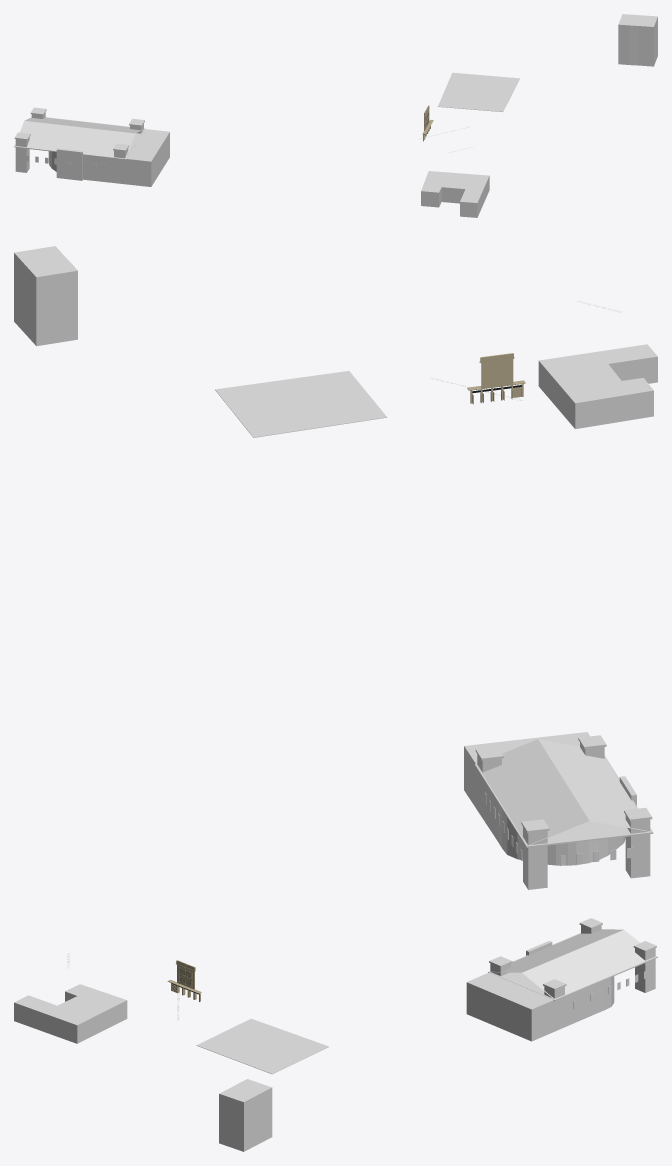
The model's file is mvp_official_heroes.glb.
3 views of the same model, one above another, from view 1: azimuth 30°, elevation 25°; view 2: azimuth 150°, elevation 25°; view 3: azimuth 270°, elevation 25° (orthographic). The views are drawn at different scales.
Parts seen in each view (by area): view 1: MERCADO MODELO | footprint OSM, MERCADO MODELO | telhado, Prefeitura | contorno OSM, altura pendente.001, Palácio do Rio Branco.002, Prefeitura Bairro.001, MERCADO MODELO | pórtico principal, MERCADO MODELO | telhado.001, MERCADO MODELO | torreão, MERCADO MODELO | cornija; view 2: Palácio do Rio Branco.002, Prefeitura | contorno OSM, altura pendente.001, MERCADO MODELO | telhado.001, Prefeitura Bairro.001, MERCADO MODELO | footprint OSM, MERCADO MODELO | telhado, MERCADO MODELO | cornija, MERCADO MODELO | torreão.001, MERCADO MODELO | torreão, FACHADA SUPERIOR | corpo elevado; view 3: MERCADO MODELO | footprint OSM, Palácio do Rio Branco.002, Prefeitura | contorno OSM, altura pendente.001, MERCADO MODELO | telhado.001, Prefeitura Bairro.001, MERCADO MODELO | telhado, MERCADO MODELO | cornija, MERCADO MODELO | torreão.001.
Boxes of the visible parts, box(x1,y1,x2,y2) form: MERCADO MODELO | footprint OSM: box(48, 129, 169, 186); MERCADO MODELO | telhado: box(15, 121, 135, 158); Prefeitura | contorno OSM, altura pendente.001: box(438, 72, 519, 111); Palácio do Rio Branco.002: box(421, 171, 489, 217); Prefeitura Bairro.001: box(618, 14, 657, 66); MERCADO MODELO | pórtico principal: box(56, 148, 82, 180); MERCADO MODELO | telhado.001: box(24, 117, 144, 133); MERCADO MODELO | torreão: box(15, 137, 29, 172); MERCADO MODELO | cornija: box(14, 117, 145, 159); Palácio do Rio Branco.002: box(538, 344, 657, 428); Prefeitura | contorno OSM, altura pendente.001: box(215, 371, 387, 437); MERCADO MODELO | telhado.001: box(476, 739, 589, 845); Prefeitura Bairro.001: box(14, 246, 77, 346); MERCADO MODELO | footprint OSM: box(464, 732, 625, 865); MERCADO MODELO | telhado: box(538, 739, 650, 831); MERCADO MODELO | cornija: box(474, 755, 653, 847); MERCADO MODELO | torreão.001: box(523, 827, 547, 889); MERCADO MODELO | torreão: box(625, 815, 650, 878); FACHADA SUPERIOR | corpo elevado: box(481, 353, 513, 388); MERCADO MODELO | footprint OSM: box(466, 972, 614, 1041); Palácio do Rio Branco.002: box(14, 984, 127, 1043); Prefeitura | contorno OSM, altura pendente.001: box(196, 1018, 328, 1074); MERCADO MODELO | telhado.001: box(522, 930, 656, 999); Prefeitura Bairro.001: box(219, 1079, 272, 1151); MERCADO MODELO | telhado: box(490, 929, 623, 972); MERCADO MODELO | cornija: box(488, 933, 657, 1000); MERCADO MODELO | torreão.001: box(635, 948, 655, 992).
Bounding box in the file's own units: 353 × 89.14 × 310.
10 materials, 2 textured.
